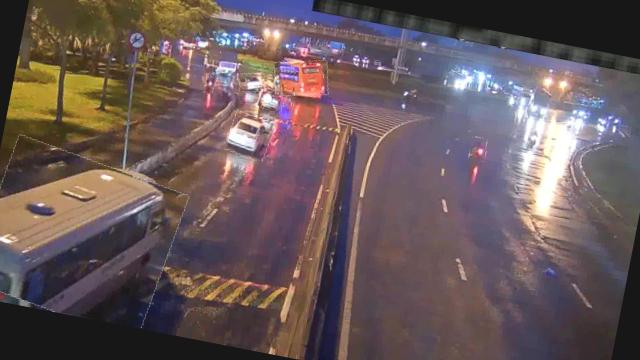Bike: (468, 137, 488, 162), (204, 71, 218, 94)
Bus: (0, 137, 187, 331), (270, 54, 332, 102)
Car: (223, 110, 274, 161), (258, 82, 288, 112), (237, 70, 266, 94)
